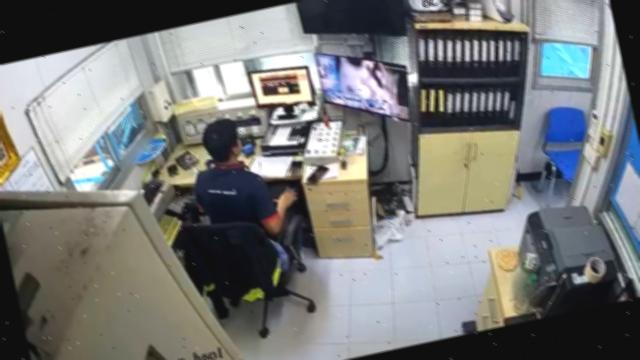Head: (196, 115, 247, 168)
People: (174, 107, 294, 238)
Phone: (304, 163, 331, 184), (287, 160, 305, 175)
